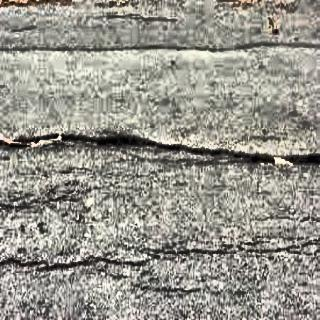crack: (0, 122, 320, 168), (1, 231, 320, 277)
